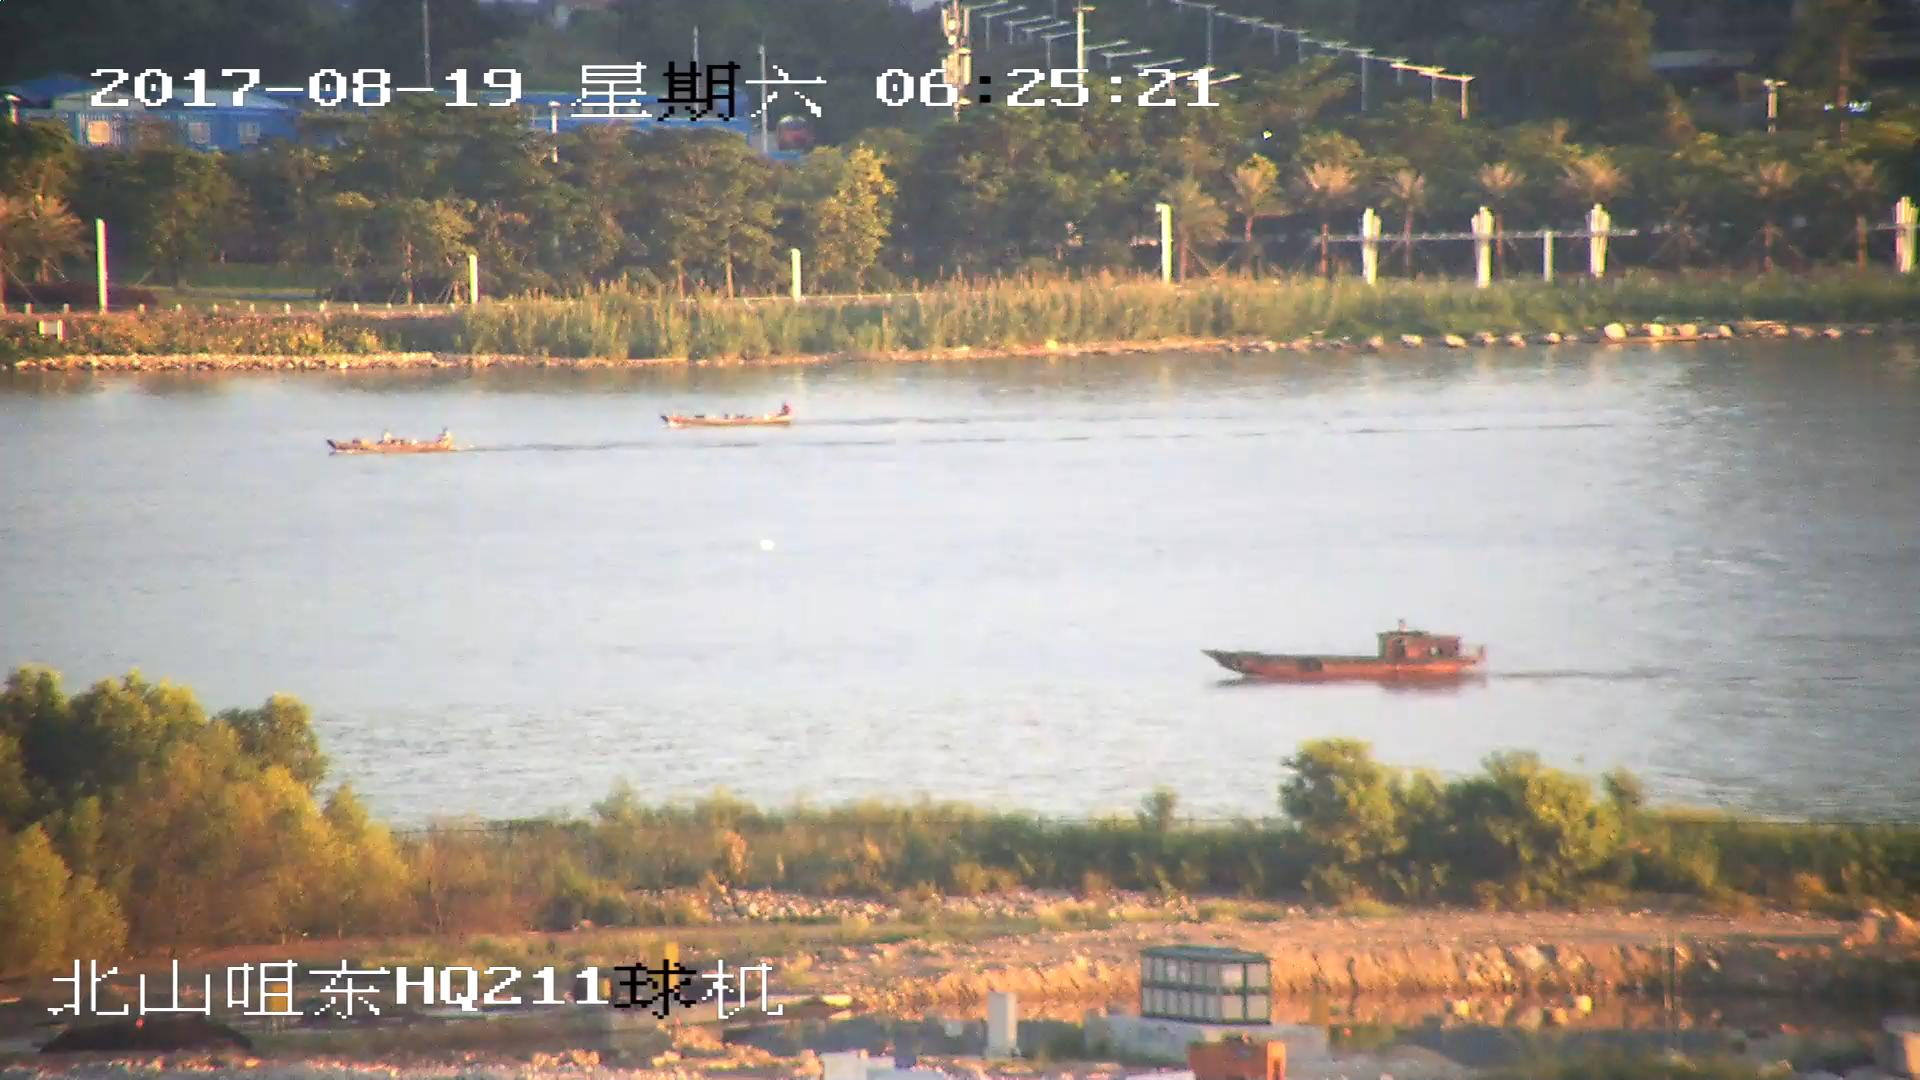fishing boat: (1204, 629, 1485, 679), (658, 403, 793, 432), (329, 424, 458, 454)
